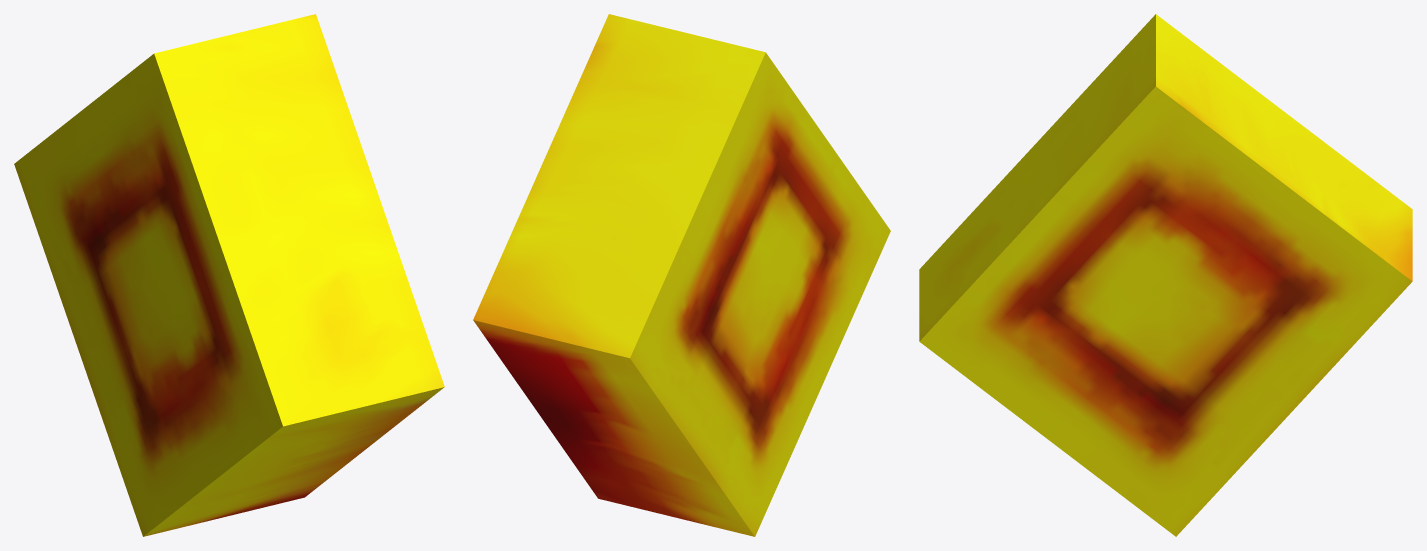
Rendered from coin.fbx.
3 renders of one model, left to right at view 1: azimuth 30°, elevation 25°; view 2: azimuth 150°, elevation 25°; view 3: azimuth 270°, elevation 25°, orthographic. The views are drawn at different scales.
Parts seen in each view (by area): view 1: Box01.001; view 2: Box01.001; view 3: Box01.001.
Boxes of the visible parts, bbox=[...] form: Box01.001: bbox=[14, 14, 444, 536]; Box01.001: bbox=[473, 14, 890, 536]; Box01.001: bbox=[919, 14, 1412, 536].
Size of the model in its own units: 126 by 367 by 364.
